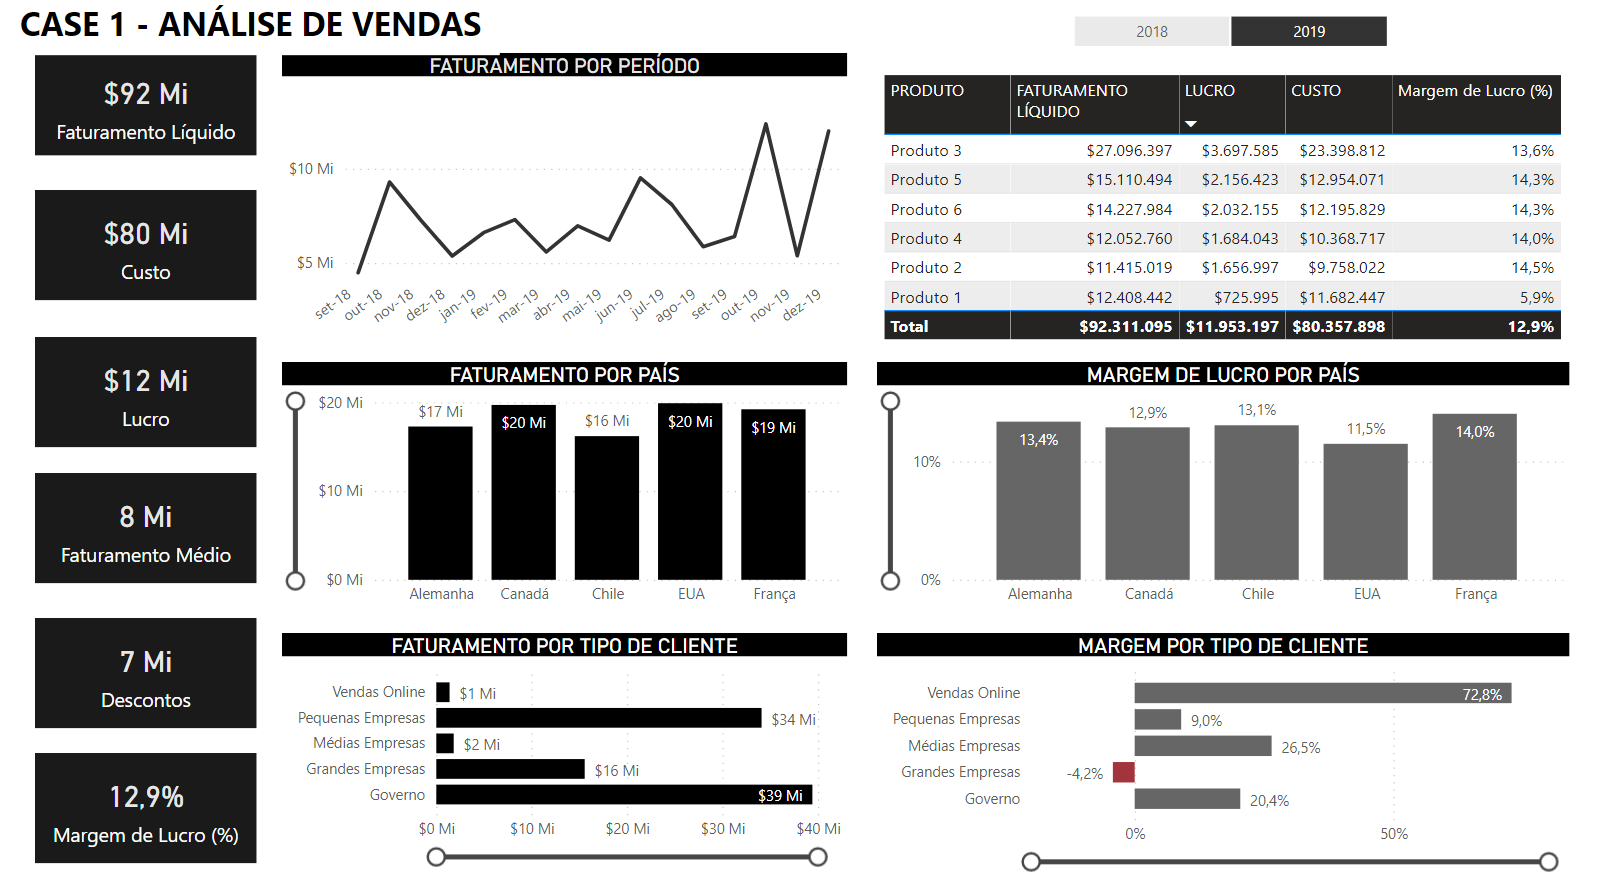

The dashboard page shown, as its layout file describes it:
{"tool":"powerbi","page":{"name":"Página 1","canvas":[1280,720],"ordinal":0},"visuals":[{"type":"lineChart","title":"FATURAMENTO POR PERÍODO","fields":{"Y":["Medidas.Faturamento Líquido"],"Category":["dCalendar.Mês-Ano"]},"box":[219,48,462,243],"z":0},{"type":"card","fields":{"Values":["Medidas.Faturamento Líquido"]},"box":[17.1,49.6,181.3,82.1],"z":1000},{"type":"card","fields":{"Values":["Medidas.Custo"]},"box":[17.1,160.6,181.3,90.2],"z":2000},{"type":"card","fields":{"Values":["Medidas.lucro"]},"box":[17.1,280.5,181.3,90.2],"z":3000},{"type":"tableEx","fields":{"Values":["BD.Produto","Medidas.Faturamento Líquido","Medidas.Lucro","Medidas.Custo","Medidas.Margem de Lucro (%)"]},"box":[705.4,61.3,574.6,229.1],"z":4000},{"type":"columnChart","title":"FATURAMENTO POR PAÍS","fields":{"Category":["BD.País"],"Y":["Medidas.Faturamento Líquido"]},"box":[219,301,462,208],"z":5000},{"type":"columnChart","title":"MARGEM DE LUCRO POR PAÍS","fields":{"Category":["BD.País"],"Y":["Medidas.Margem de Lucro (%)"]},"box":[705,301,566,208],"z":6000},{"type":"barChart","title":"FATURAMENTO POR TIPO DE CLIENTE","fields":{"Category":["BD.Tipos de Clientes"],"Y":["Medidas.Faturamento Líquido"]},"box":[219,522,462,194],"z":7000},{"type":"barChart","title":"MARGEM POR TIPO DE CLIENTE","fields":{"Category":["BD.Tipos de Clientes"],"Y":["Medidas.Margem de Lucro (%)"]},"box":[705,522,566,198],"z":8000},{"type":"card","fields":{"Values":["Medidas.Faturamento Médio"]},"box":[17.1,391.5,181.3,90.2],"z":8001},{"type":"card","fields":{"Values":["Medidas.Descontos"]},"box":[17.1,509.7,181.3,90.2],"z":8002},{"type":"card","fields":{"Values":["Medidas.Margem de Lucro (%)"]},"box":[17.1,620.6,181.3,90.2],"z":8003},{"type":"textbox","box":[0,0,397,50],"z":8004},{"type":"slicer","fields":{"Values":["dCalendar.Ano"]},"box":[840.7,11.7,304.9,36.1],"z":8005}]}

Visuals, with their boxes in screenshot pixels (x1, y1, x2, y2):
"FATURAMENTO POR PERÍODO" lineChart: 280/60/853/361
card - Medidas.Faturamento Líquido: 30/62/254/163
card - Medidas.Custo: 30/199/254/311
card - Medidas.lucro: 30/348/254/460
tableEx - BD.Produto x Medidas.Faturamento Líquido: 883/76/1596/360
"FATURAMENTO POR PAÍS" columnChart: 280/373/853/631
"MARGEM DE LUCRO POR PAÍS" columnChart: 883/373/1585/631
"FATURAMENTO POR TIPO DE CLIENTE" barChart: 280/647/853/871
"MARGEM POR TIPO DE CLIENTE" barChart: 883/647/1585/871
card - Medidas.Faturamento Médio: 30/486/254/597
card - Medidas.Descontos: 30/632/254/744
card - Medidas.Margem de Lucro (%): 30/770/254/871
textbox: 8/0/501/62
slicer - dCalendar.Ano: 1051/15/1429/59
